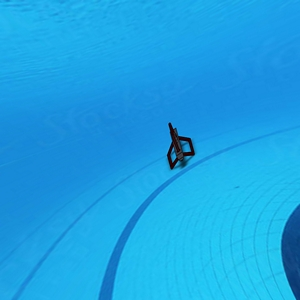submarine: (163, 118, 198, 169)
